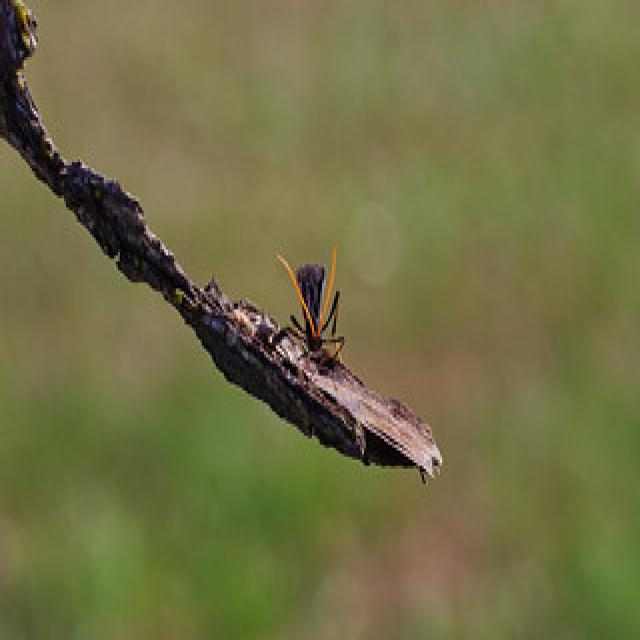Guepe: (277, 234, 355, 385)
